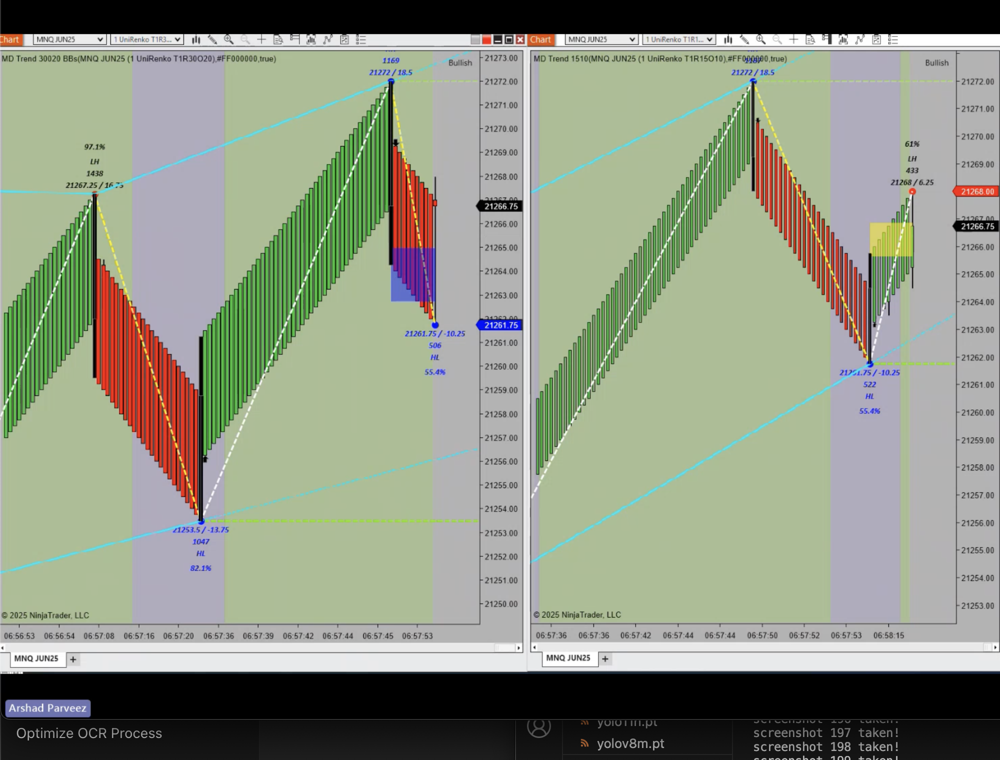HL: (424, 349, 449, 366), (860, 385, 879, 405), (191, 545, 211, 562)
LH: (902, 150, 927, 170), (83, 153, 110, 170)
